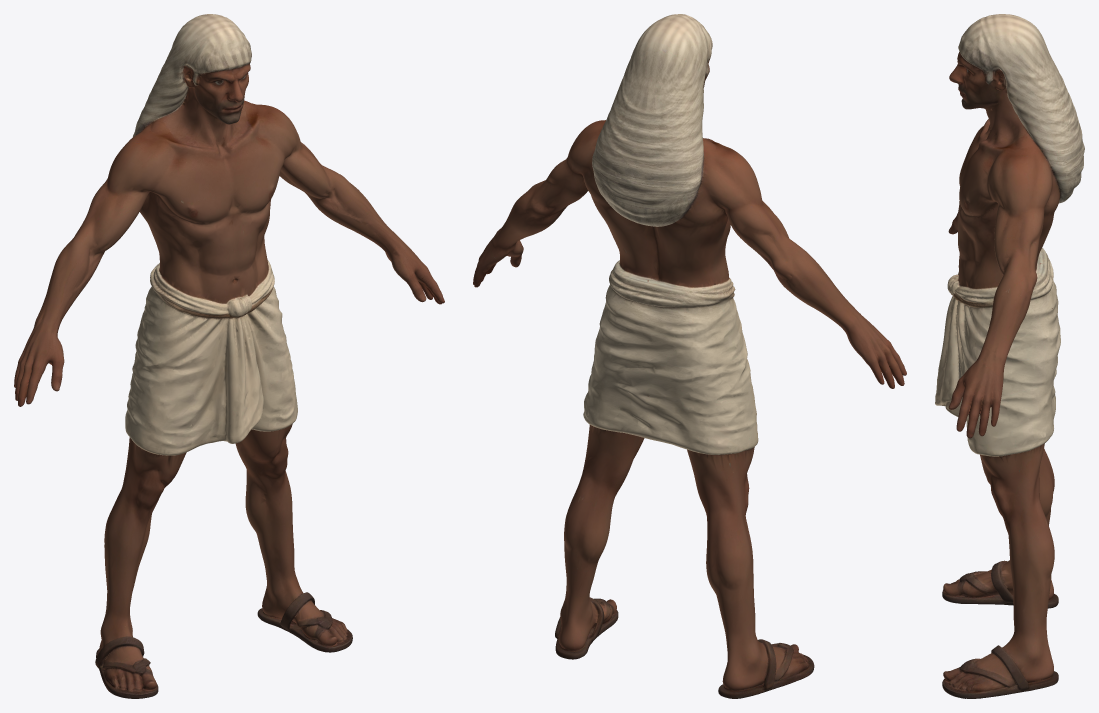
File: Meshy_AI_Egyptian_Worker_0319021100_texture.glb
3 renders of one model, left to right at view 1: azimuth 30°, elevation 25°; view 2: azimuth 150°, elevation 25°; view 3: azimuth 270°, elevation 25°, orthographic. The views are drawn at different scales.
Size of the model in its own units: 1.33 by 1.9 by 0.4124.
1 material, 1 textured.
